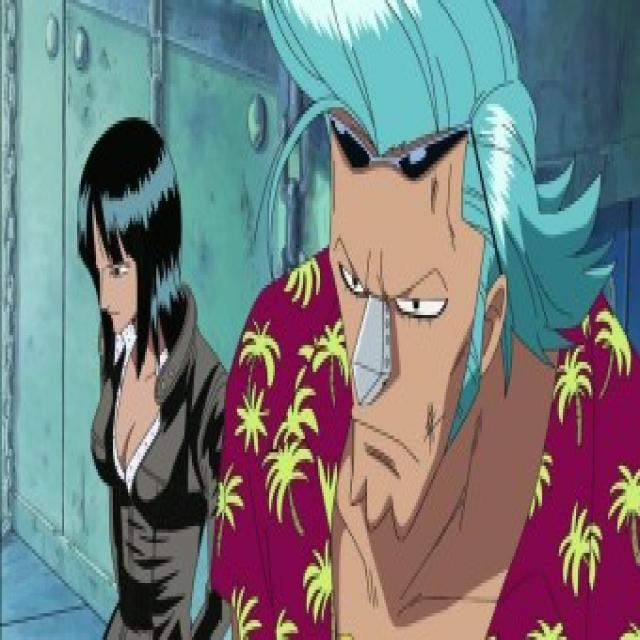Franky: (246, 0, 534, 532)
NicoRobin: (61, 114, 190, 378)
